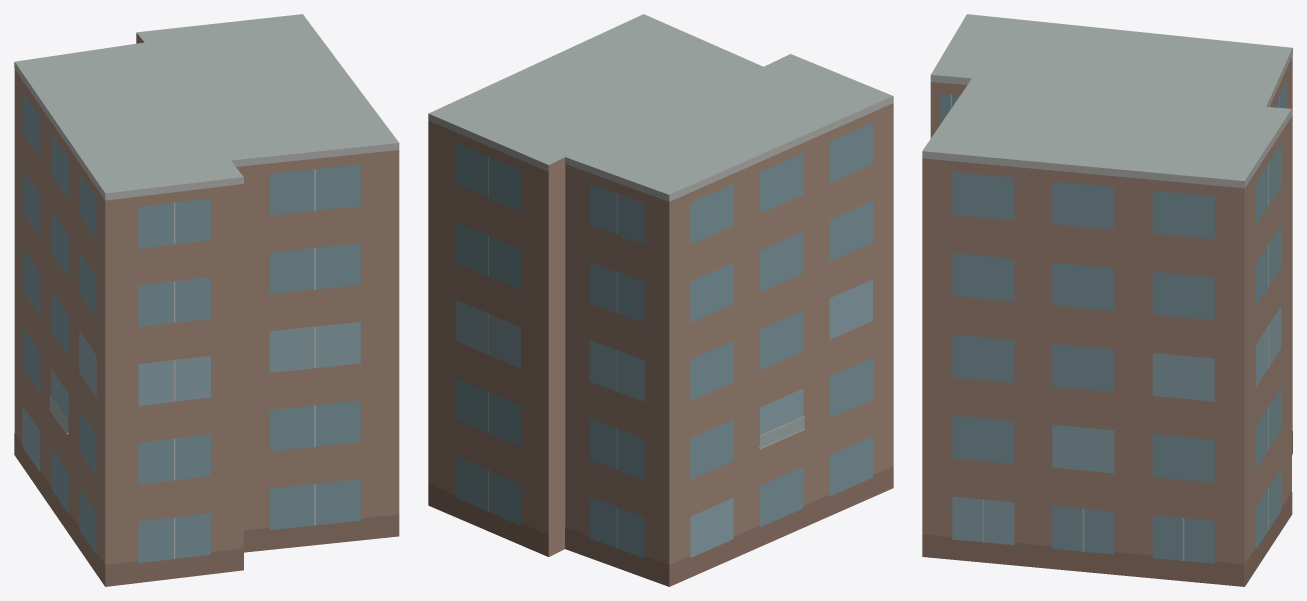
File: survey-upis-32905016.glb
3 views of the same model, side by side, from view 1: azimuth 30°, elevation 25°; view 2: azimuth 150°, elevation 25°; view 3: azimuth 270°, elevation 25° (orthographic). The views are drawn at different scales.
Parts seen in each view (by area): view 1: survey-upis-32905016.tmp; view 2: survey-upis-32905016.tmp; view 3: survey-upis-32905016.tmp.
Part boxes in pixels (box(x1,y1,x2,y2)): survey-upis-32905016.tmp: box(14, 14, 399, 586); survey-upis-32905016.tmp: box(428, 14, 893, 586); survey-upis-32905016.tmp: box(922, 14, 1292, 586).
Size of the model in its own units: 12.2 by 13.8 by 11.43.
